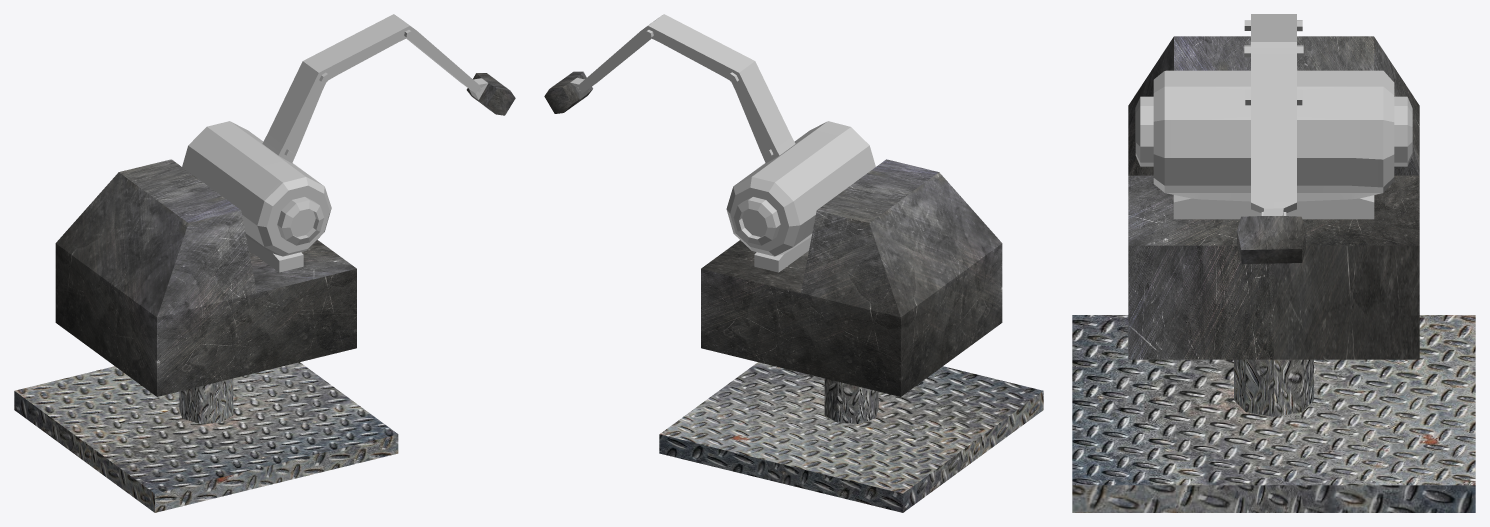
The model's file is Maq_Hammer.fbx.
3 renders of one model, left to right at view 1: azimuth 30°, elevation 25°; view 2: azimuth 150°, elevation 25°; view 3: azimuth 270°, elevation 25°, orthographic. The views are drawn at different scales.
Visible parts, largest first — view 1: polySurface33; view 2: polySurface33; view 3: polySurface33.
Part boxes in pixels (bbox=[...]): polySurface33: bbox=[14, 14, 515, 512]; polySurface33: bbox=[544, 14, 1043, 512]; polySurface33: bbox=[1072, 14, 1475, 512].
Bounding box in the file's own units: 5.57 × 4.61 × 3.23.
